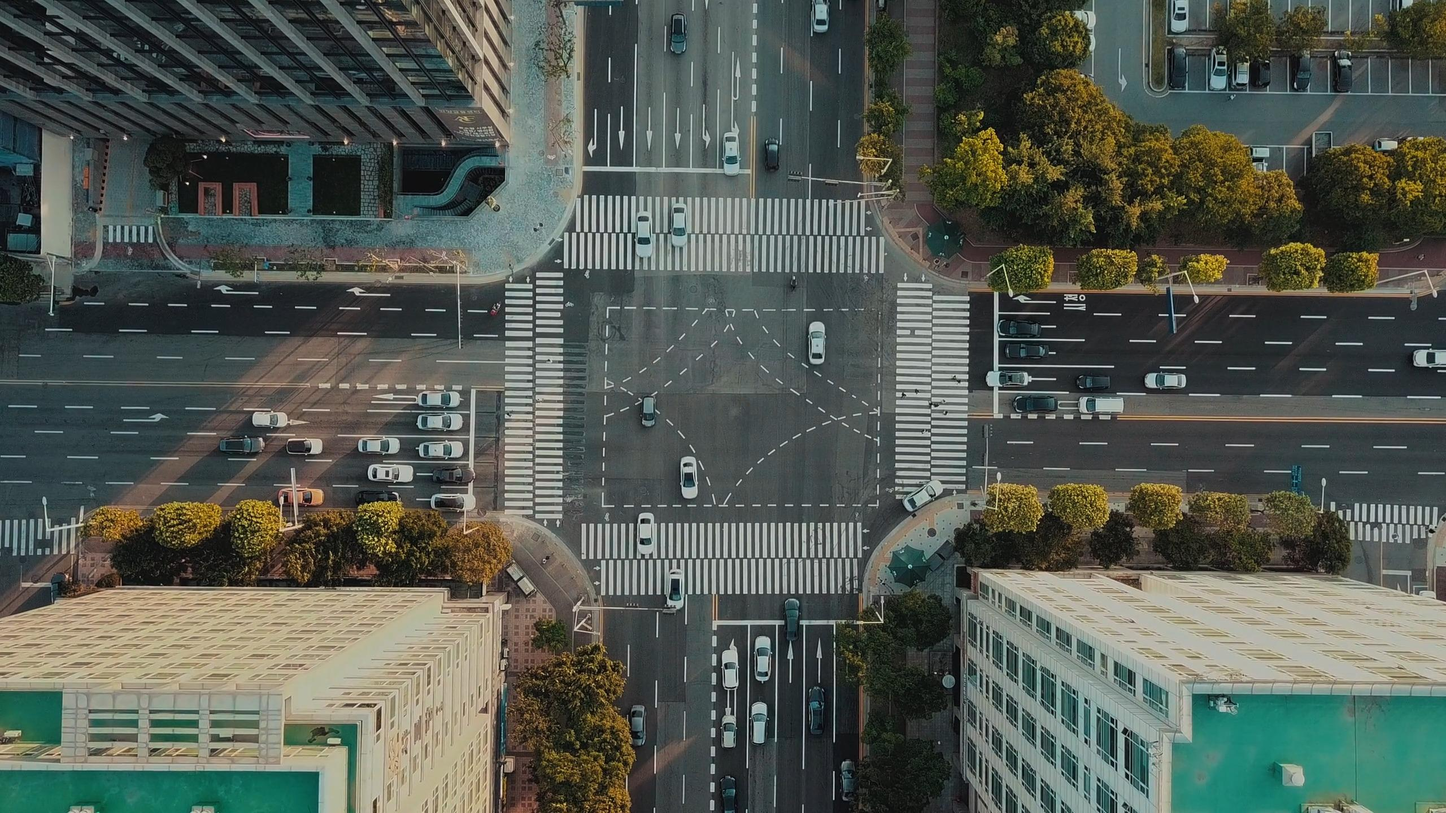car: (901, 479, 945, 514), (806, 684, 828, 738), (1330, 48, 1354, 94), (748, 701, 771, 748), (414, 439, 465, 460), (752, 635, 774, 683), (720, 130, 742, 178), (677, 455, 700, 500), (668, 202, 690, 249), (366, 463, 415, 484), (1076, 395, 1125, 416), (1012, 394, 1060, 415), (995, 318, 1043, 339), (1208, 44, 1229, 92), (415, 412, 465, 432), (805, 320, 827, 365), (667, 11, 689, 56), (430, 492, 477, 513), (1167, 45, 1188, 92), (218, 435, 267, 455), (431, 465, 477, 486), (634, 211, 654, 259), (719, 649, 741, 692), (627, 703, 648, 748), (1143, 370, 1188, 391), (1004, 342, 1051, 362), (782, 597, 802, 643), (357, 436, 403, 456), (717, 774, 741, 812), (416, 390, 463, 409), (984, 370, 1031, 389), (635, 512, 656, 554), (666, 568, 686, 611), (1073, 372, 1113, 392), (285, 437, 325, 456), (762, 136, 781, 175), (639, 393, 659, 429), (719, 714, 738, 751), (251, 410, 290, 428), (1168, 0, 1188, 33)
